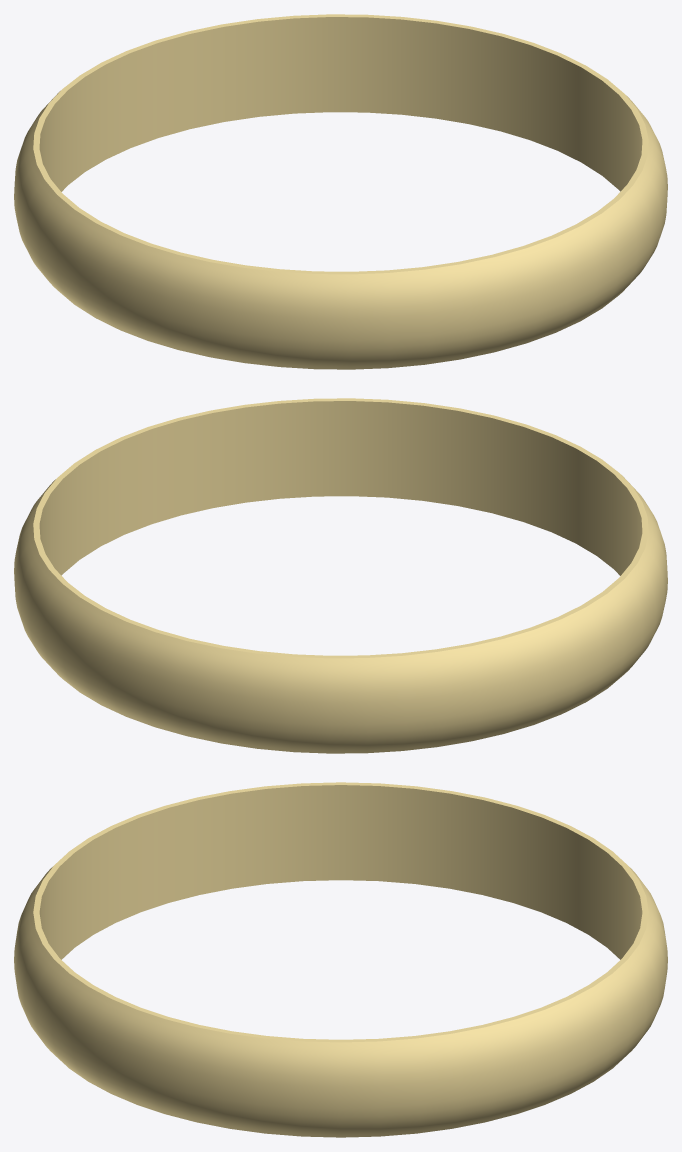
The model's file is 244_2.0mmCC.glb.
The picture shows the model from 3 angles, top to bottom: view 1: azimuth 30°, elevation 25°; view 2: azimuth 150°, elevation 25°; view 3: azimuth 270°, elevation 25°; orthographic projection.
Visible parts, largest first — view 1: Base_Metal, Engraving_Metal; view 2: Base_Metal, Engraving_Metal; view 3: Base_Metal, Engraving_Metal.
Part boxes in pixels (box(x1,y1,x2,y2)): Base_Metal: box(14, 14, 667, 369); Engraving_Metal: box(39, 17, 642, 191); Base_Metal: box(14, 398, 667, 753); Engraving_Metal: box(39, 401, 642, 575); Base_Metal: box(14, 782, 667, 1137); Engraving_Metal: box(39, 785, 642, 959).
Size of the model in its own units: 1.25 by 0.2 by 1.25.
